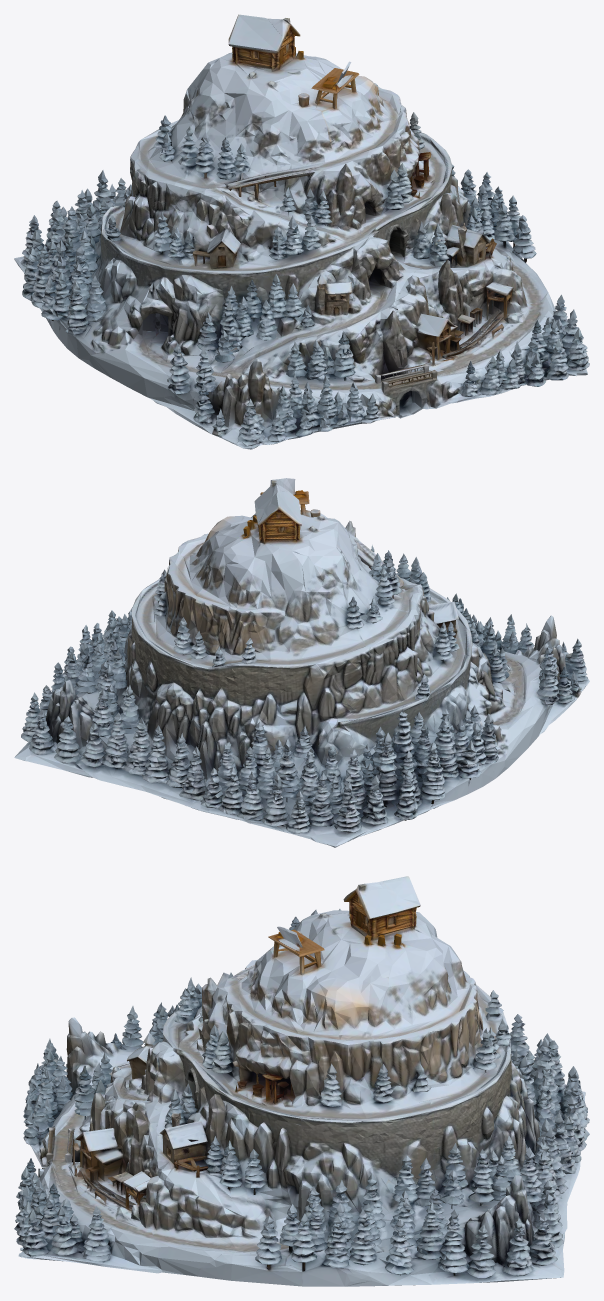
The model's file is scene-lowpoly.glb.
3 renders of one model, top to bottom at view 1: azimuth 30°, elevation 25°; view 2: azimuth 150°, elevation 25°; view 3: azimuth 270°, elevation 25°, orthographic. The views are drawn at different scales.
Visible parts, largest first — view 1: world; view 2: world; view 3: world.
Part boxes in pixels (x1,y1,x2,y2): world: [14, 14, 589, 449]; world: [14, 478, 589, 847]; world: [14, 876, 589, 1286].
Bounding box in the file's own units: 0.9602 × 0.6013 × 1.
Materials: 1 (1 with a texture image).
